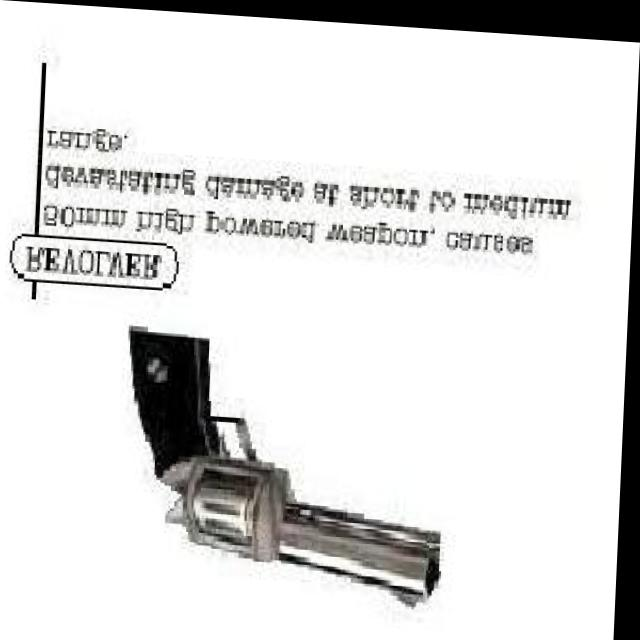handgun: (121, 328, 454, 607)
